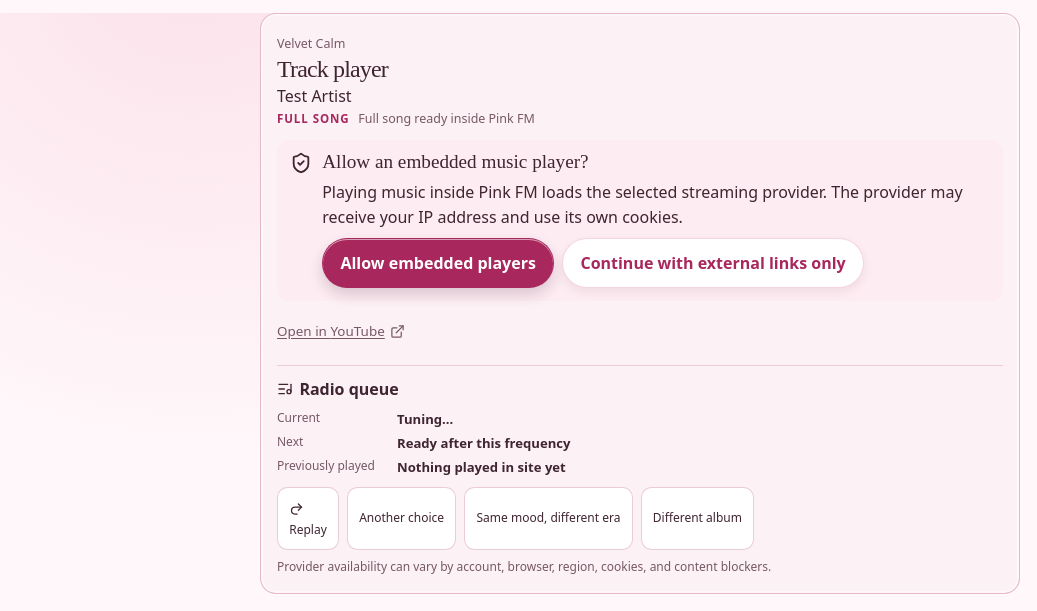
Test: embedded radio player › does not load provider scripts before consent and keeps external fallback after denial
Click the button "Continue with external links only" at (713, 263), box [562,238,864,288]
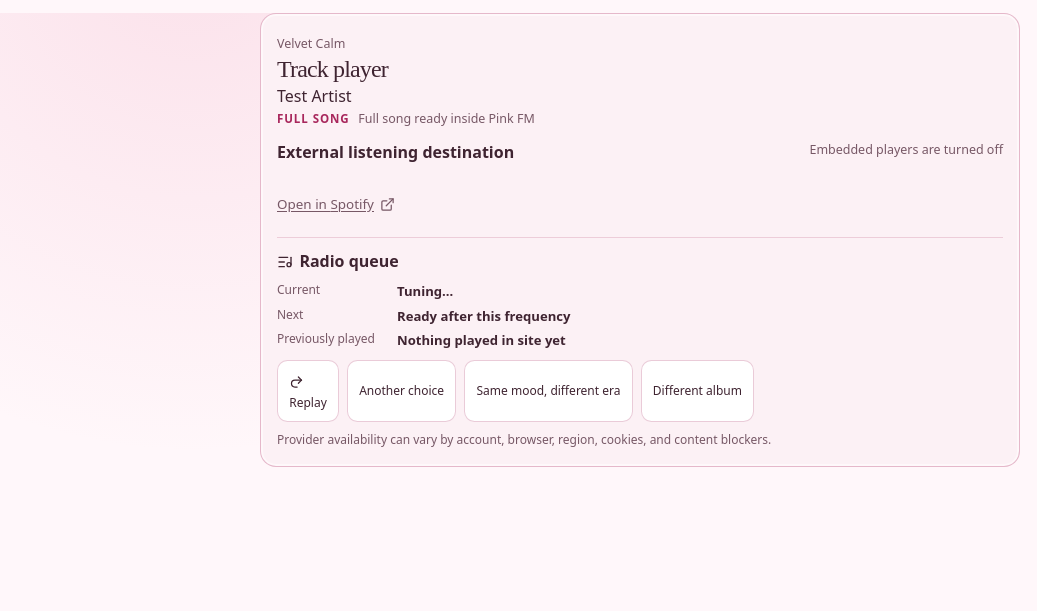
Expected: the link "Open in Spotify" is shown, [277,195,395,213]
Expected: the text "Embedded players are turned off" is shown, [810,140,1003,164]
